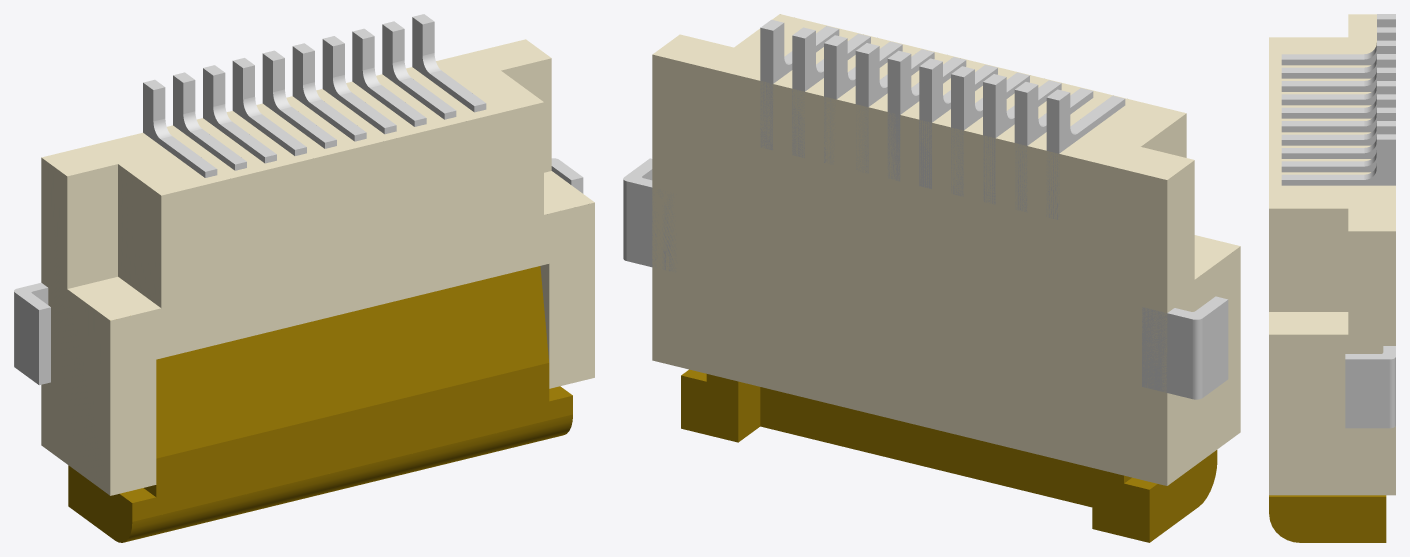
File: Hirose_FH12-10S-0.5SH_1x10-1MP_P0.50mm_Horizontal.glb
The picture shows the model from 3 angles, left to right: view 1: azimuth 30°, elevation 25°; view 2: azimuth 150°, elevation 25°; view 3: azimuth 270°, elevation 25°; orthographic projection. The views are drawn at different scales.
Visible parts, largest first — view 1: Shape_IndexedFaceSet.005, Shape_IndexedFaceSet.023, Shape_IndexedFaceSet.016, Shape_IndexedFaceSet, Shape_IndexedFaceSet.008, Shape_IndexedFaceSet.018, Shape_IndexedFaceSet.007, Shape_IndexedFaceSet.006, Shape_IndexedFaceSet.020, Shape_IndexedFaceSet.014, Shape_IndexedFaceSet.003, Shape_IndexedFaceSet.171 (+12 smaller); view 2: Shape_IndexedFaceSet.001, Shape_IndexedFaceSet, Shape_IndexedFaceSet.030, Shape_IndexedFaceSet.008, Shape_IndexedFaceSet.178, Shape_IndexedFaceSet.026, Shape_IndexedFaceSet.027, Shape_IndexedFaceSet.020, Shape_IndexedFaceSet.169, Shape_IndexedFaceSet.171, Shape_IndexedFaceSet.122, Shape_IndexedFaceSet.146 (+22 smaller); view 3: Shape_IndexedFaceSet.002, Shape_IndexedFaceSet, Shape_IndexedFaceSet.004, Shape_IndexedFaceSet.017, Shape_IndexedFaceSet.162, Shape_IndexedFaceSet.010, Shape_IndexedFaceSet.074, Shape_IndexedFaceSet.058, Shape_IndexedFaceSet.038, Shape_IndexedFaceSet.070, Shape_IndexedFaceSet.050, Shape_IndexedFaceSet.062 (+17 smaller).
Part boxes in pixels (x1=…): Shape_IndexedFaceSet.005: x1=110, y1=102, x2=594, y2=495; Shape_IndexedFaceSet.023: x1=156, y1=266, x2=548, y2=458; Shape_IndexedFaceSet.016: x1=132, y1=363, x2=572, y2=521; Shape_IndexedFaceSet: x1=41, y1=39, x2=551, y2=195; Shape_IndexedFaceSet.008: x1=41, y1=157, x2=110, y2=495; Shape_IndexedFaceSet.018: x1=124, y1=414, x2=572, y2=542; Shape_IndexedFaceSet.007: x1=67, y1=164, x2=117, y2=288; Shape_IndexedFaceSet.006: x1=118, y1=164, x2=161, y2=307; Shape_IndexedFaceSet.020: x1=68, y1=465, x2=132, y2=542; Shape_IndexedFaceSet.014: x1=67, y1=277, x2=160, y2=320; Shape_IndexedFaceSet.003: x1=501, y1=58, x2=551, y2=172; Shape_IndexedFaceSet.171: x1=15, y1=293, x2=38, y2=384; Shape_IndexedFaceSet.001: x1=652, y1=54, x2=1167, y2=485; Shape_IndexedFaceSet: x1=652, y1=14, x2=1194, y2=179; Shape_IndexedFaceSet.030: x1=760, y1=387, x2=1092, y2=507; Shape_IndexedFaceSet.008: x1=1167, y1=160, x2=1240, y2=485; Shape_IndexedFaceSet.178: x1=1142, y1=307, x2=1192, y2=398; Shape_IndexedFaceSet.026: x1=681, y1=374, x2=738, y2=442; Shape_IndexedFaceSet.027: x1=1092, y1=468, x2=1149, y2=542; Shape_IndexedFaceSet.020: x1=1149, y1=450, x2=1217, y2=542; Shape_IndexedFaceSet.169: x1=627, y1=181, x2=676, y2=272; Shape_IndexedFaceSet.171: x1=1202, y1=300, x2=1228, y2=397; Shape_IndexedFaceSet.122: x1=887, y1=59, x2=900, y2=181; Shape_IndexedFaceSet.146: x1=760, y1=27, x2=773, y2=150; Shape_IndexedFaceSet.002: x1=1269, y1=231, x2=1395, y2=495; Shape_IndexedFaceSet: x1=1269, y1=14, x2=1395, y2=231; Shape_IndexedFaceSet.004: x1=1269, y1=208, x2=1348, y2=311; Shape_IndexedFaceSet.017: x1=1269, y1=497, x2=1386, y2=542; Shape_IndexedFaceSet.162: x1=1345, y1=359, x2=1389, y2=428; Shape_IndexedFaceSet.010: x1=1269, y1=312, x2=1348, y2=334; Shape_IndexedFaceSet.074: x1=1281, y1=139, x2=1395, y2=185; Shape_IndexedFaceSet.058: x1=1281, y1=86, x2=1395, y2=132; Shape_IndexedFaceSet.038: x1=1281, y1=19, x2=1395, y2=65; Shape_IndexedFaceSet.070: x1=1281, y1=126, x2=1395, y2=172; Shape_IndexedFaceSet.050: x1=1281, y1=59, x2=1395, y2=105; Shape_IndexedFaceSet.062: x1=1281, y1=99, x2=1395, y2=145.
Size of the model in its own units: 3.58 by 2.52 by 0.7875.
